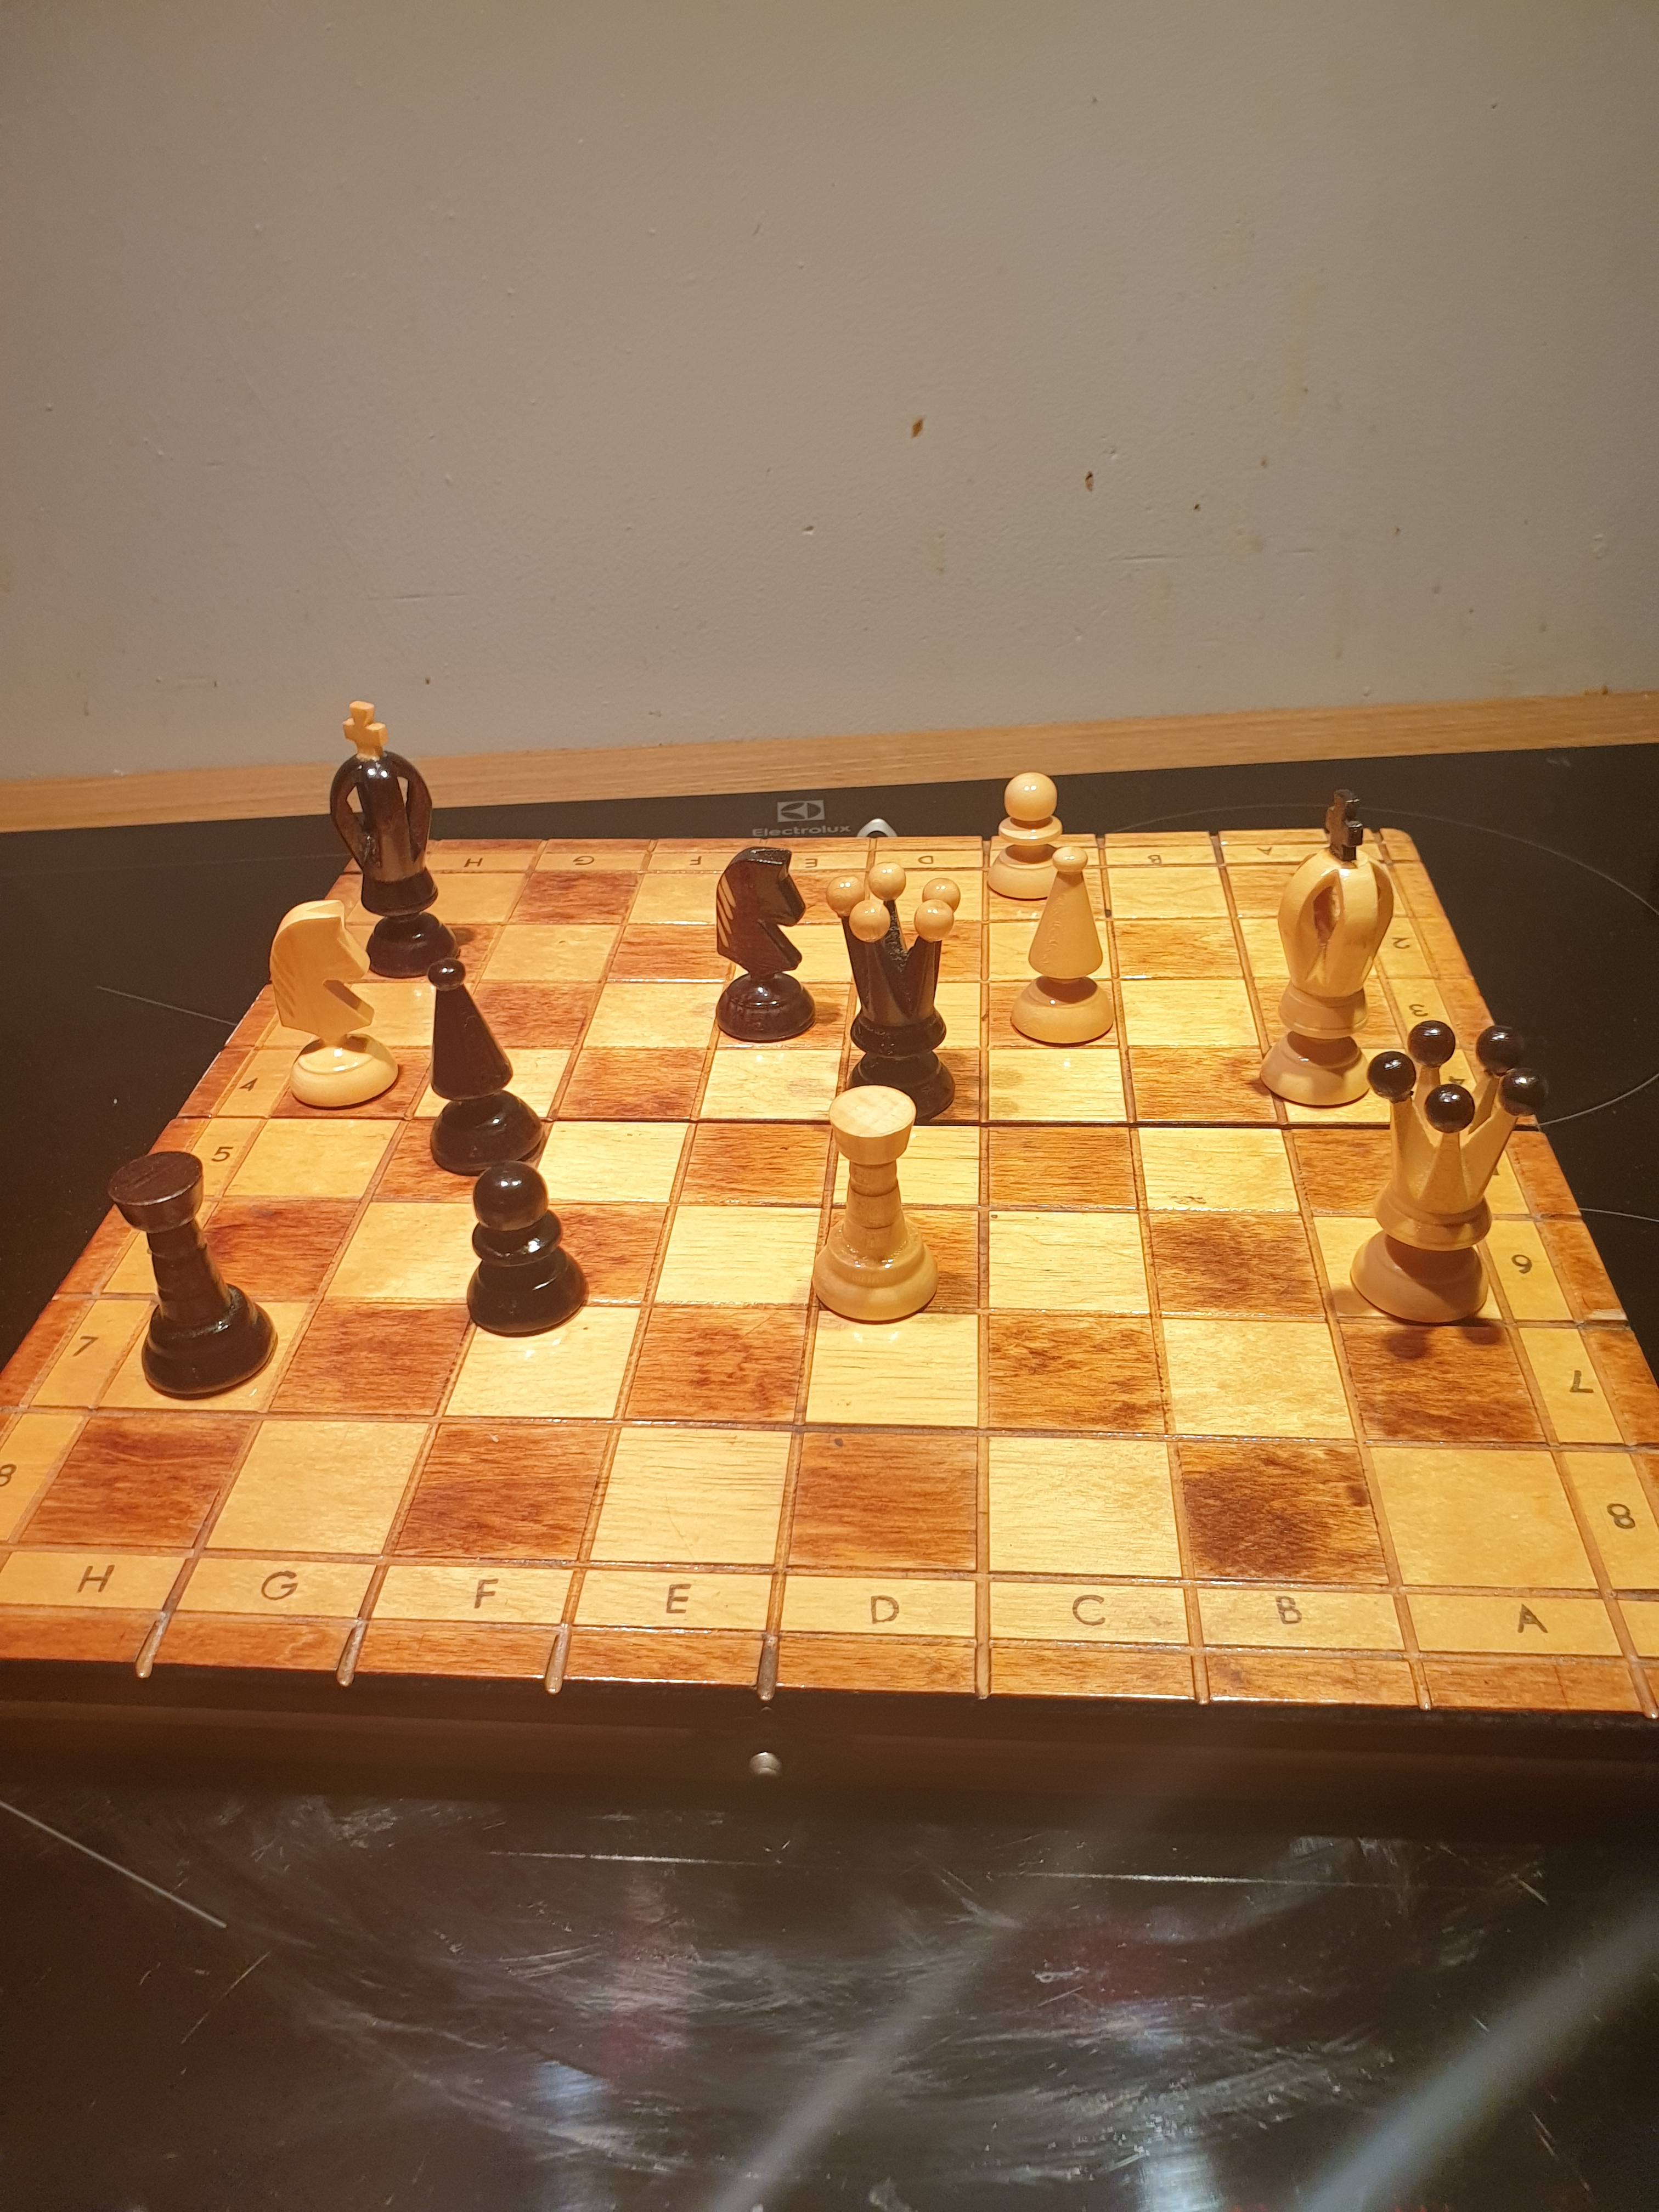bbishop: (396, 944, 559, 1198)
bking: (314, 686, 474, 991)
bknight: (701, 829, 824, 1049)
bpawn: (450, 1143, 606, 1357)
bqueen: (810, 850, 976, 1139)
brook: (92, 1130, 301, 1406)
wbishop: (993, 829, 1136, 1062)
wking: (1246, 777, 1406, 1127)
wknight: (260, 892, 410, 1111)
wpawn: (978, 763, 1082, 909)
wqueen: (1338, 996, 1554, 1345)
wrook: (795, 1075, 951, 1329)
